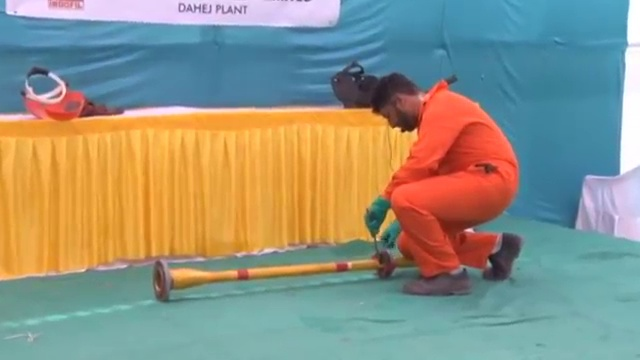helmet_off: (372, 73, 424, 134)
person: (364, 65, 528, 305)
